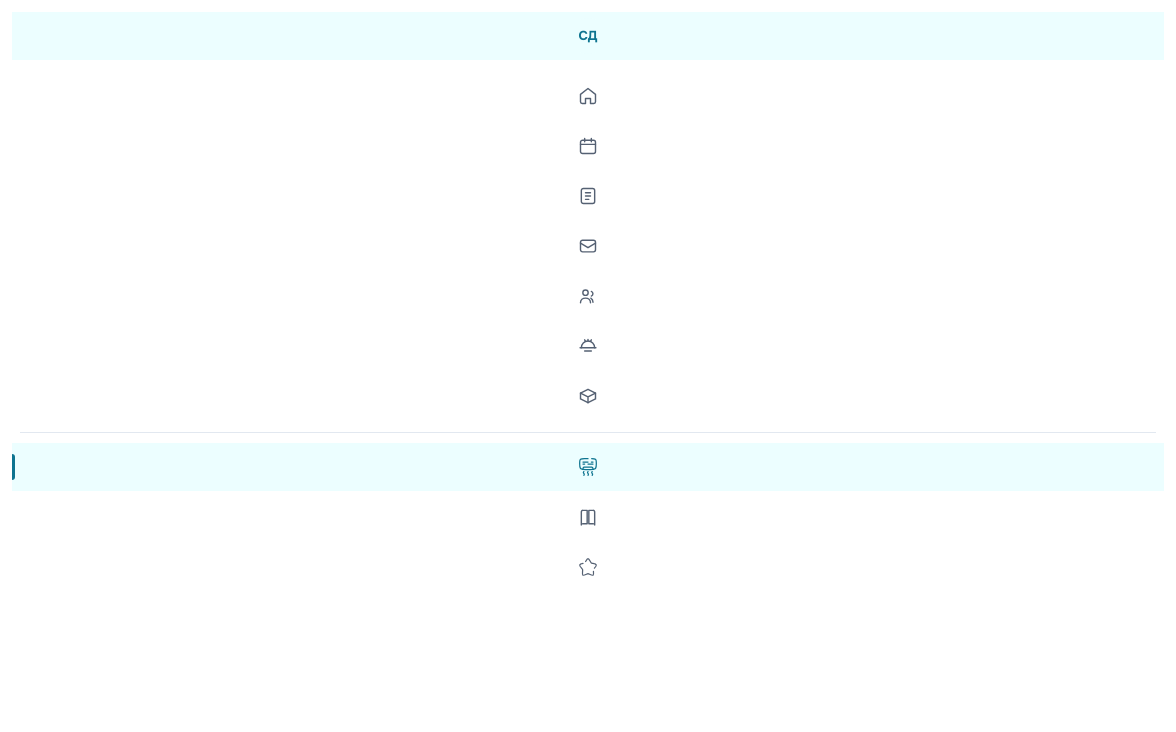
Test: карточка вошедшего › открывает настройки, профиль, сайт и выход словами
This screenshot has width=1176, height=732.
Click the button named "Сергей Демидов" at (588, 36), box [12,12,1164,60]
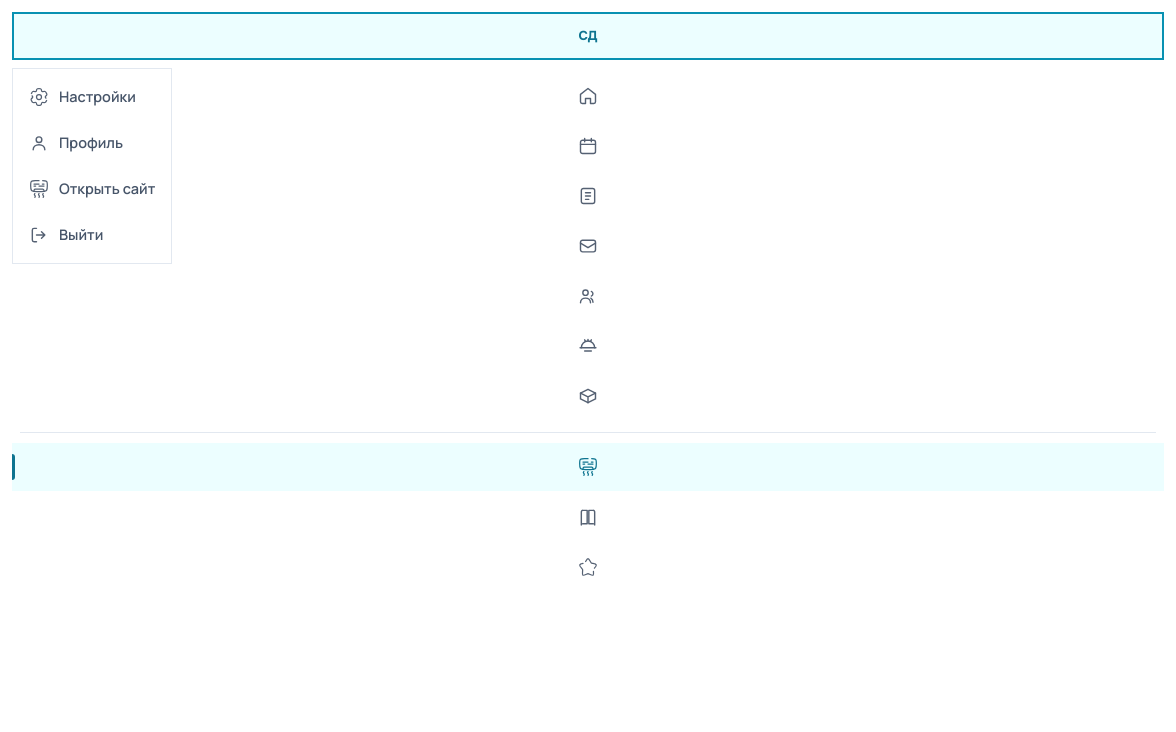
Now the link "Настройки" is shown, box [29,87,136,107]
Now the link "Профиль" is shown, box [29,133,123,153]
Now the button "Выйти" is shown, box [19,213,165,257]
